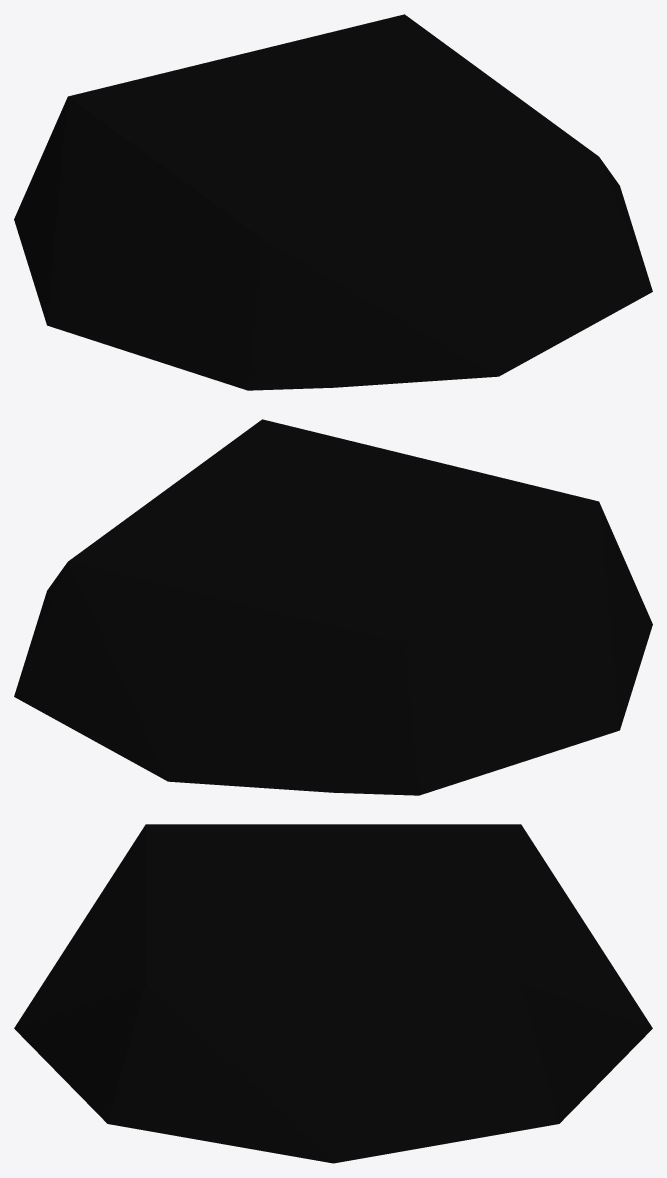
File: old_hyudoro_64_V.glb
3 renders of one model, top to bottom at view 1: azimuth 30°, elevation 25°; view 2: azimuth 150°, elevation 25°; view 3: azimuth 270°, elevation 25°, orthographic. The views are drawn at different scales.
Parts seen in each view (by area): view 1: old_hyudoro_64_V; view 2: old_hyudoro_64_V; view 3: old_hyudoro_64_V.
Boxes of the visible parts, x1,y1,x2,y2 form: old_hyudoro_64_V: (14,14,652,390); old_hyudoro_64_V: (14,419,652,795); old_hyudoro_64_V: (14,824,652,1163).
Bounding box in the file's own units: 581 × 253 × 581.
1 material, 1 textured.
